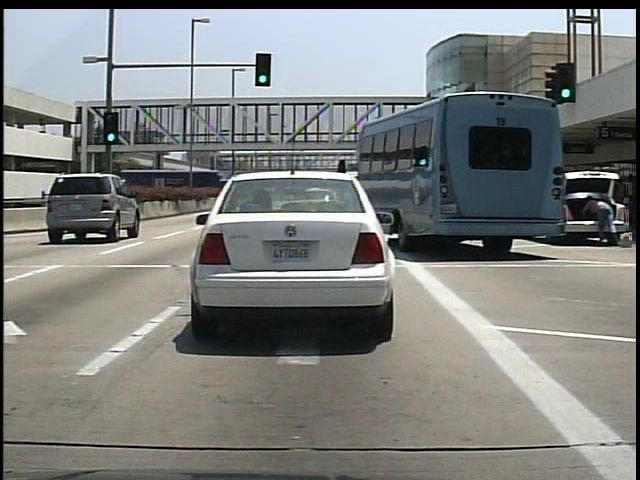person: (584, 187, 620, 250)
